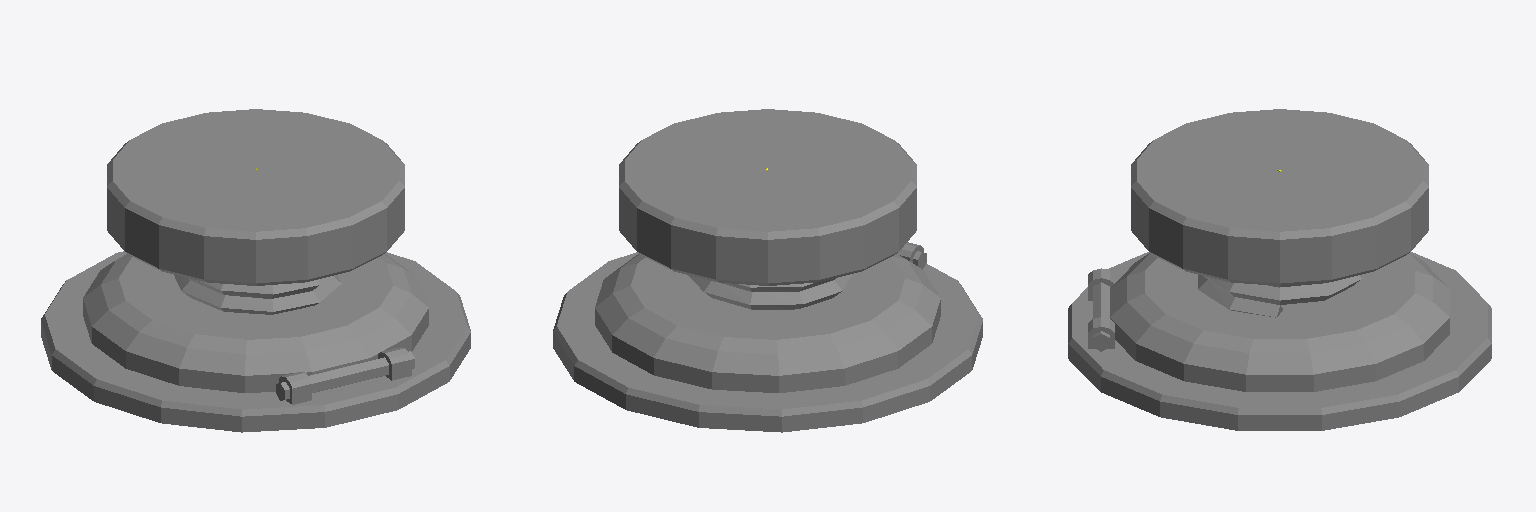
The model's file is cpz_obj_pipelinecapB.obj.
3 renders of one model, left to right at view 1: azimuth 30°, elevation 25°; view 2: azimuth 150°, elevation 25°; view 3: azimuth 270°, elevation 25°, orthographic.
Parts seen in each view (by area): view 1: cmn_obj_c_spring_HD_cap, ccp_metal_yy_floor3_Cmn_dpn, ccp_metal_yy_yelow_Cmn_dpn, cpz_metal_yy1_ylwflor_Cmn_dpn, cmn_obj_c_spring_HD_metal, cpz_metal_yy_cyder_cmn_dpn; view 2: cmn_obj_c_spring_HD_cap, ccp_metal_yy_floor3_Cmn_dpn, ccp_metal_yy_yelow_Cmn_dpn, cpz_metal_yy1_ylwflor_Cmn_dpn, cmn_obj_c_spring_HD_metal; view 3: cmn_obj_c_spring_HD_cap, ccp_metal_yy_floor3_Cmn_dpn, ccp_metal_yy_yelow_Cmn_dpn, cpz_metal_yy1_ylwflor_Cmn_dpn, cmn_obj_c_spring_HD_metal, cpz_metal_yy_cyder_cmn_dpn.
Boxes of the visible parts, box(x1,y1,x2,y2) form: cmn_obj_c_spring_HD_cap: box(107, 109, 404, 285); ccp_metal_yy_floor3_Cmn_dpn: box(41, 251, 470, 432); ccp_metal_yy_yelow_Cmn_dpn: box(83, 254, 428, 375); cpz_metal_yy1_ylwflor_Cmn_dpn: box(83, 300, 428, 392); cmn_obj_c_spring_HD_metal: box(174, 275, 341, 314); cpz_metal_yy_cyder_cmn_dpn: box(279, 347, 411, 404); cmn_obj_c_spring_HD_cap: box(619, 109, 916, 285); ccp_metal_yy_floor3_Cmn_dpn: box(553, 251, 982, 432); ccp_metal_yy_yelow_Cmn_dpn: box(595, 254, 940, 375); cpz_metal_yy1_ylwflor_Cmn_dpn: box(595, 300, 940, 392); cmn_obj_c_spring_HD_metal: box(688, 274, 851, 309); cmn_obj_c_spring_HD_cap: box(1131, 109, 1428, 285); ccp_metal_yy_floor3_Cmn_dpn: box(1068, 252, 1491, 430); ccp_metal_yy_yelow_Cmn_dpn: box(1110, 253, 1449, 374); cpz_metal_yy1_ylwflor_Cmn_dpn: box(1110, 318, 1449, 391); cmn_obj_c_spring_HD_metal: box(1198, 275, 1361, 317); cpz_metal_yy_cyder_cmn_dpn: box(1088, 268, 1114, 348).
Size of the model in its own units: 50.29 by 22.8 by 50.29.